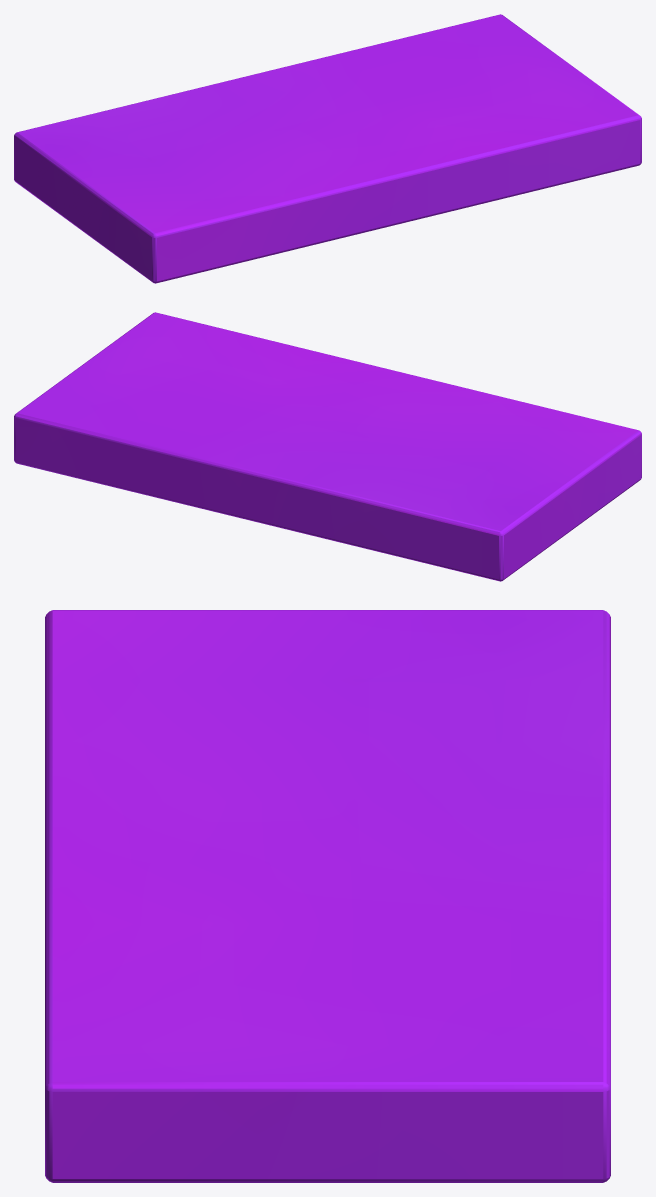
Rendered from FlatCuboidPink.fbx.
3 views of the same model, one above another, from view 1: azimuth 30°, elevation 25°; view 2: azimuth 150°, elevation 25°; view 3: azimuth 270°, elevation 25° (orthographic). The views are drawn at different scales.
Visible parts, largest first — view 1: Cube; view 2: Cube; view 3: Cube.
Part boxes in pixels (x1=…): Cube: x1=14, y1=14, x2=641, y2=283; Cube: x1=14, y1=312, x2=641, y2=581; Cube: x1=45, y1=610, x2=610, y2=1182.
Bounding box in the file's own units: 6 × 0.5895 × 3.
